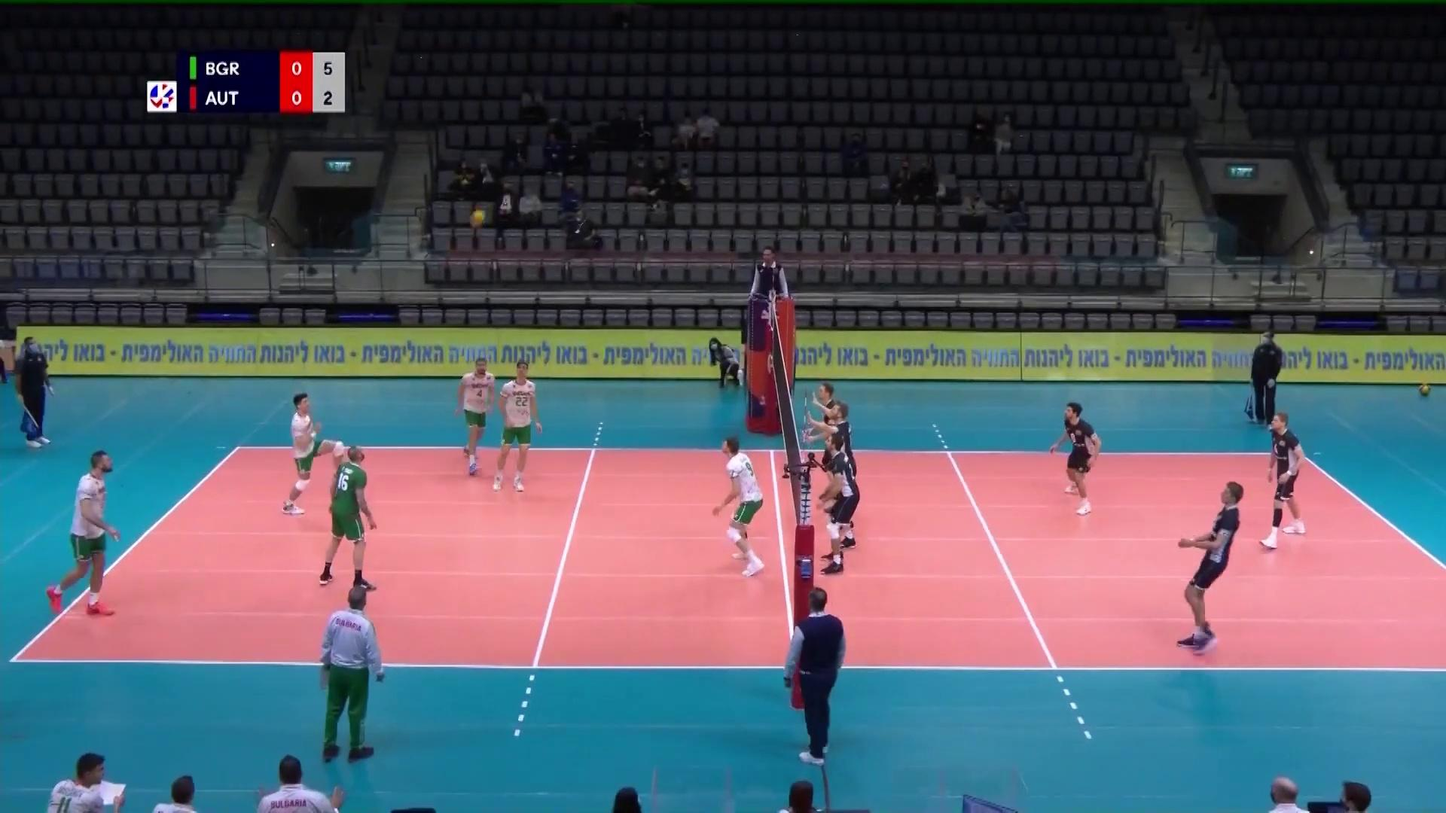ball: (470, 210, 487, 229)
